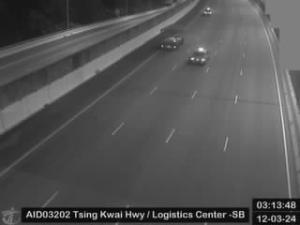vehicle: (188, 45, 210, 65), (160, 37, 184, 52), (202, 7, 212, 15)
